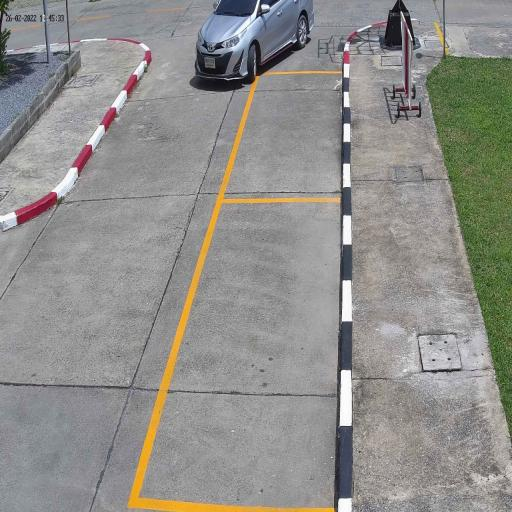car: (192, 0, 316, 83)
